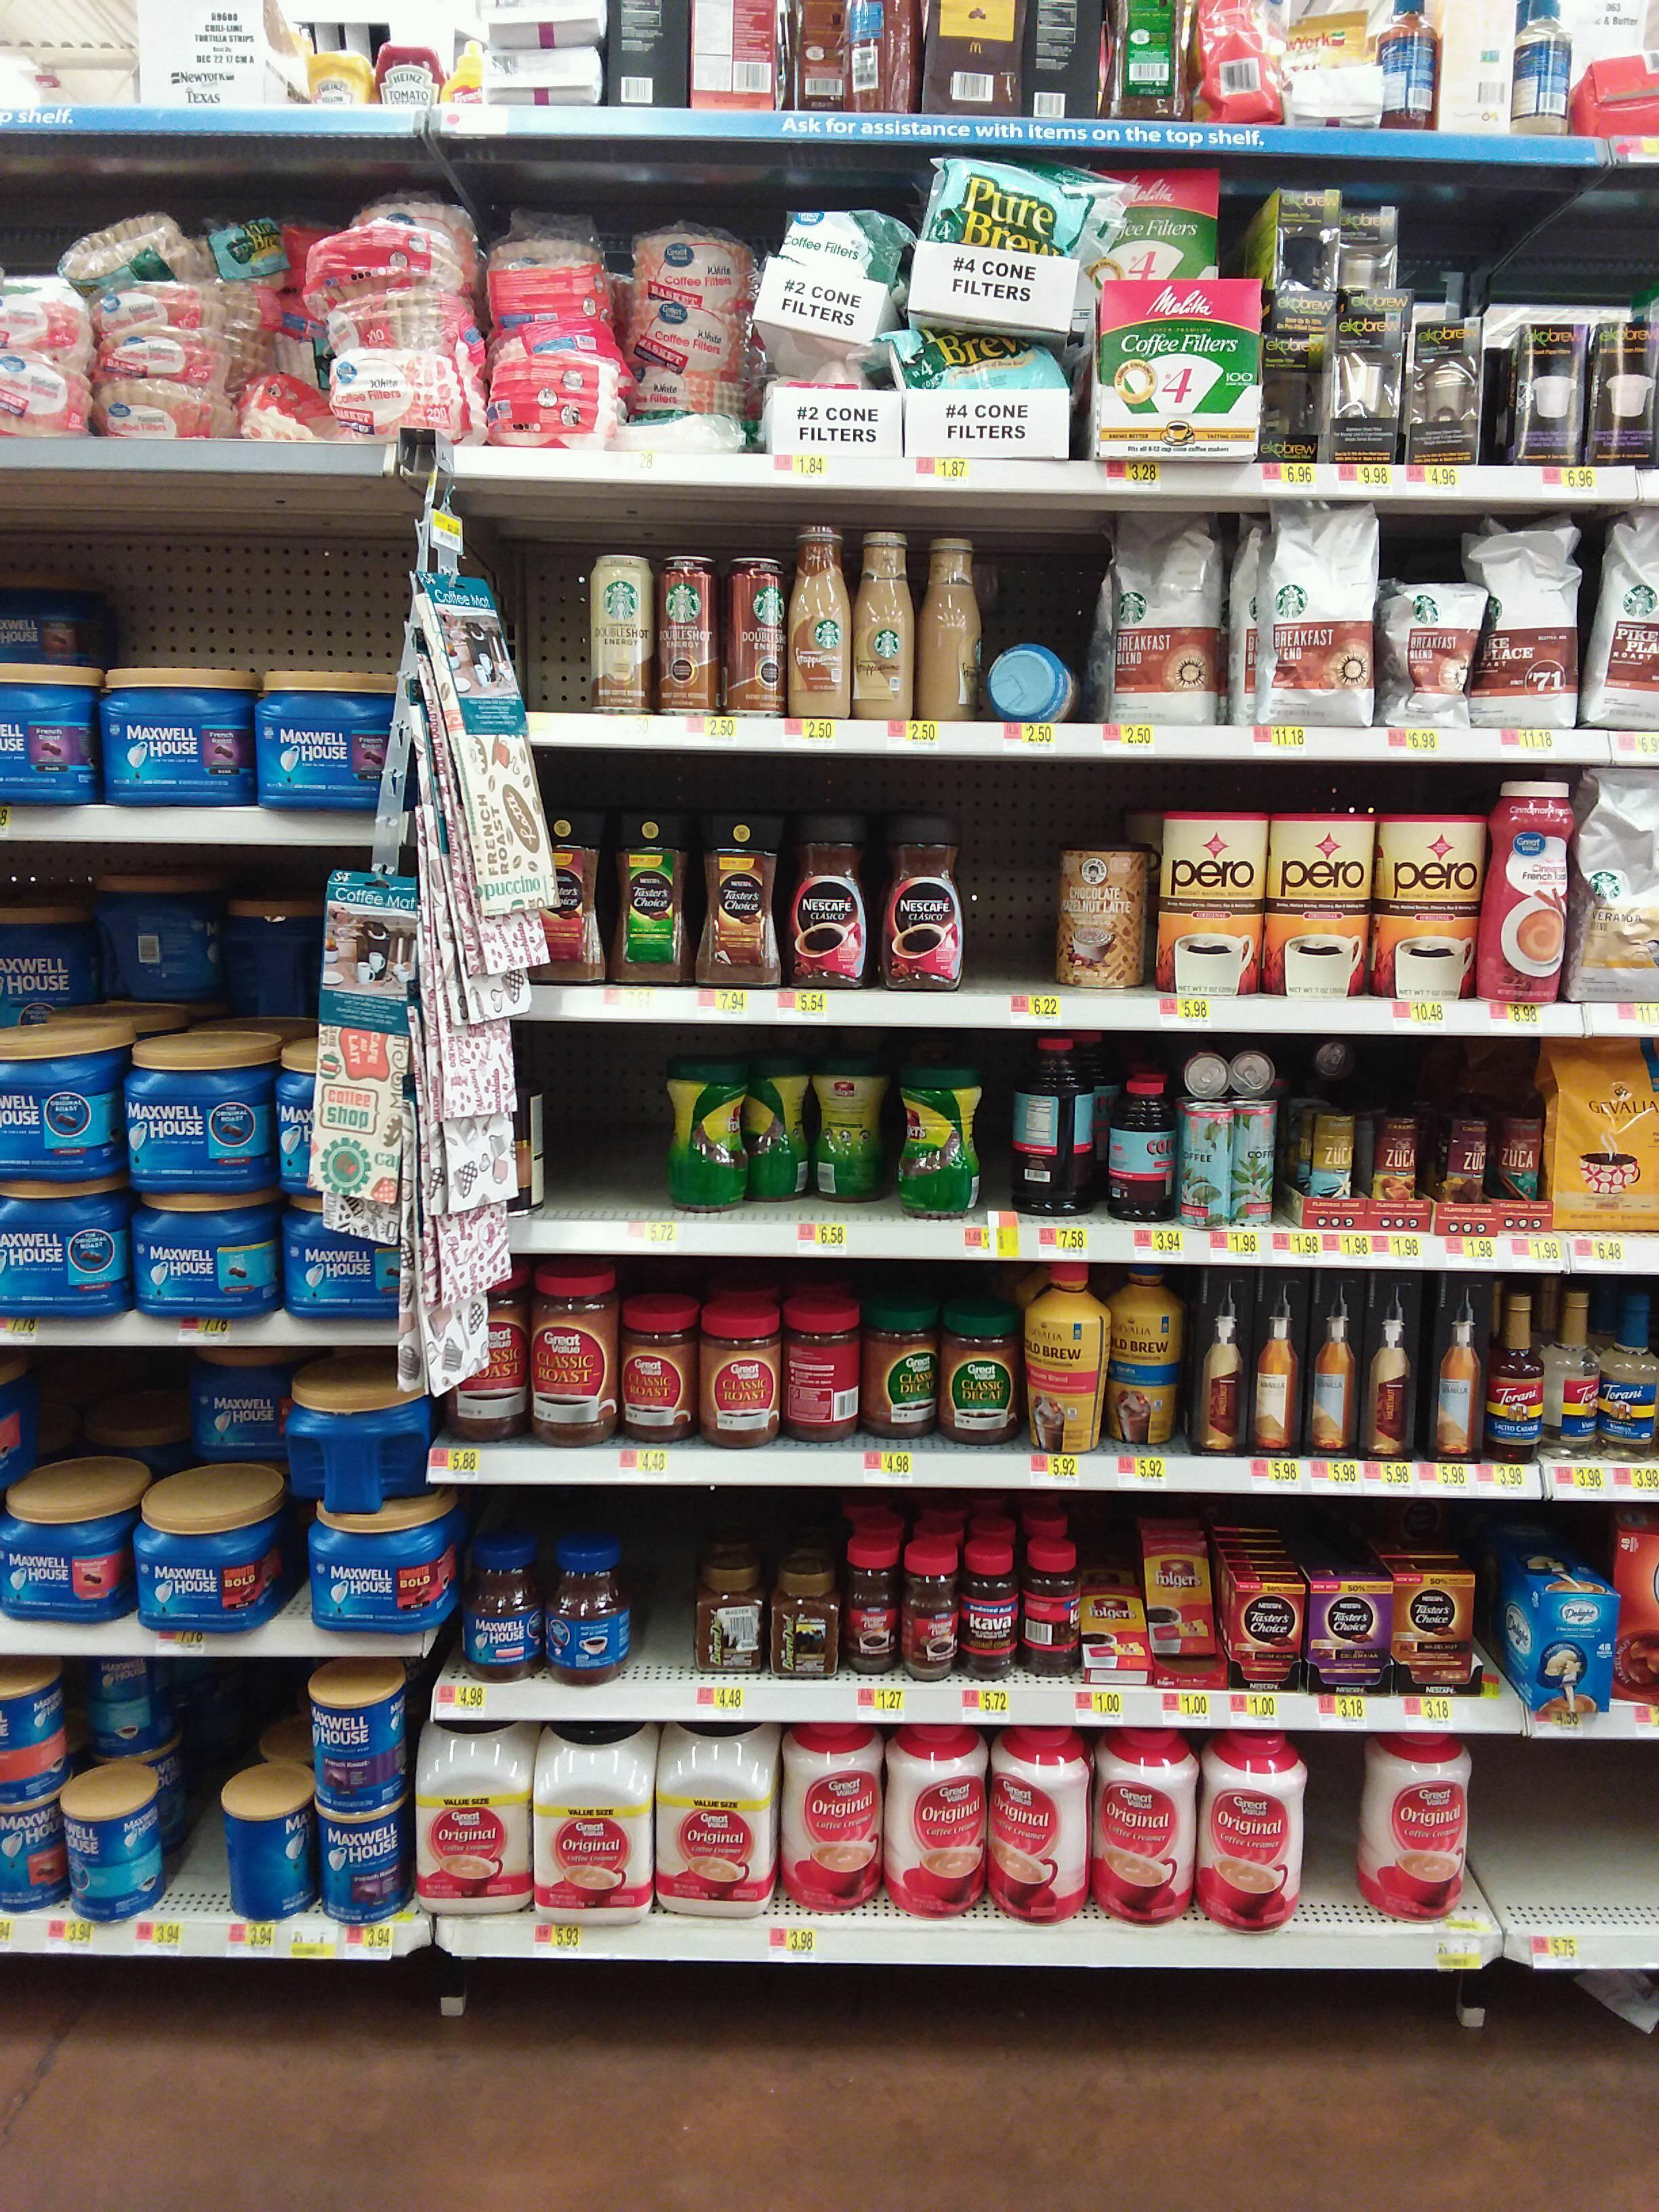empty: (1480, 1749, 1642, 1909), (549, 1049, 652, 1214), (969, 792, 1046, 982), (645, 1507, 694, 1658), (1309, 1745, 1351, 1902), (533, 563, 579, 707)
misalignment: (765, 193, 897, 456), (1080, 1505, 1220, 1684)
